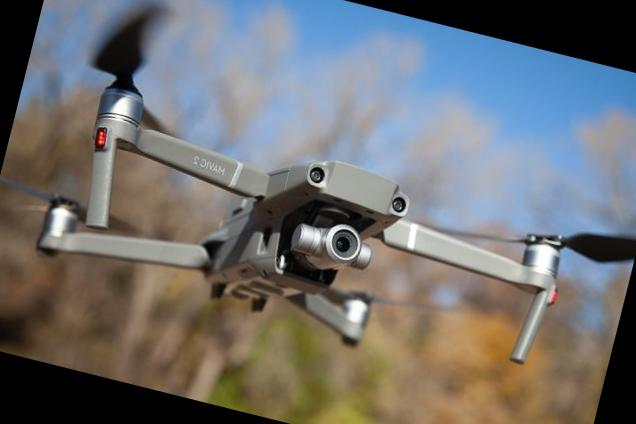drone: (0, 41, 610, 403)
